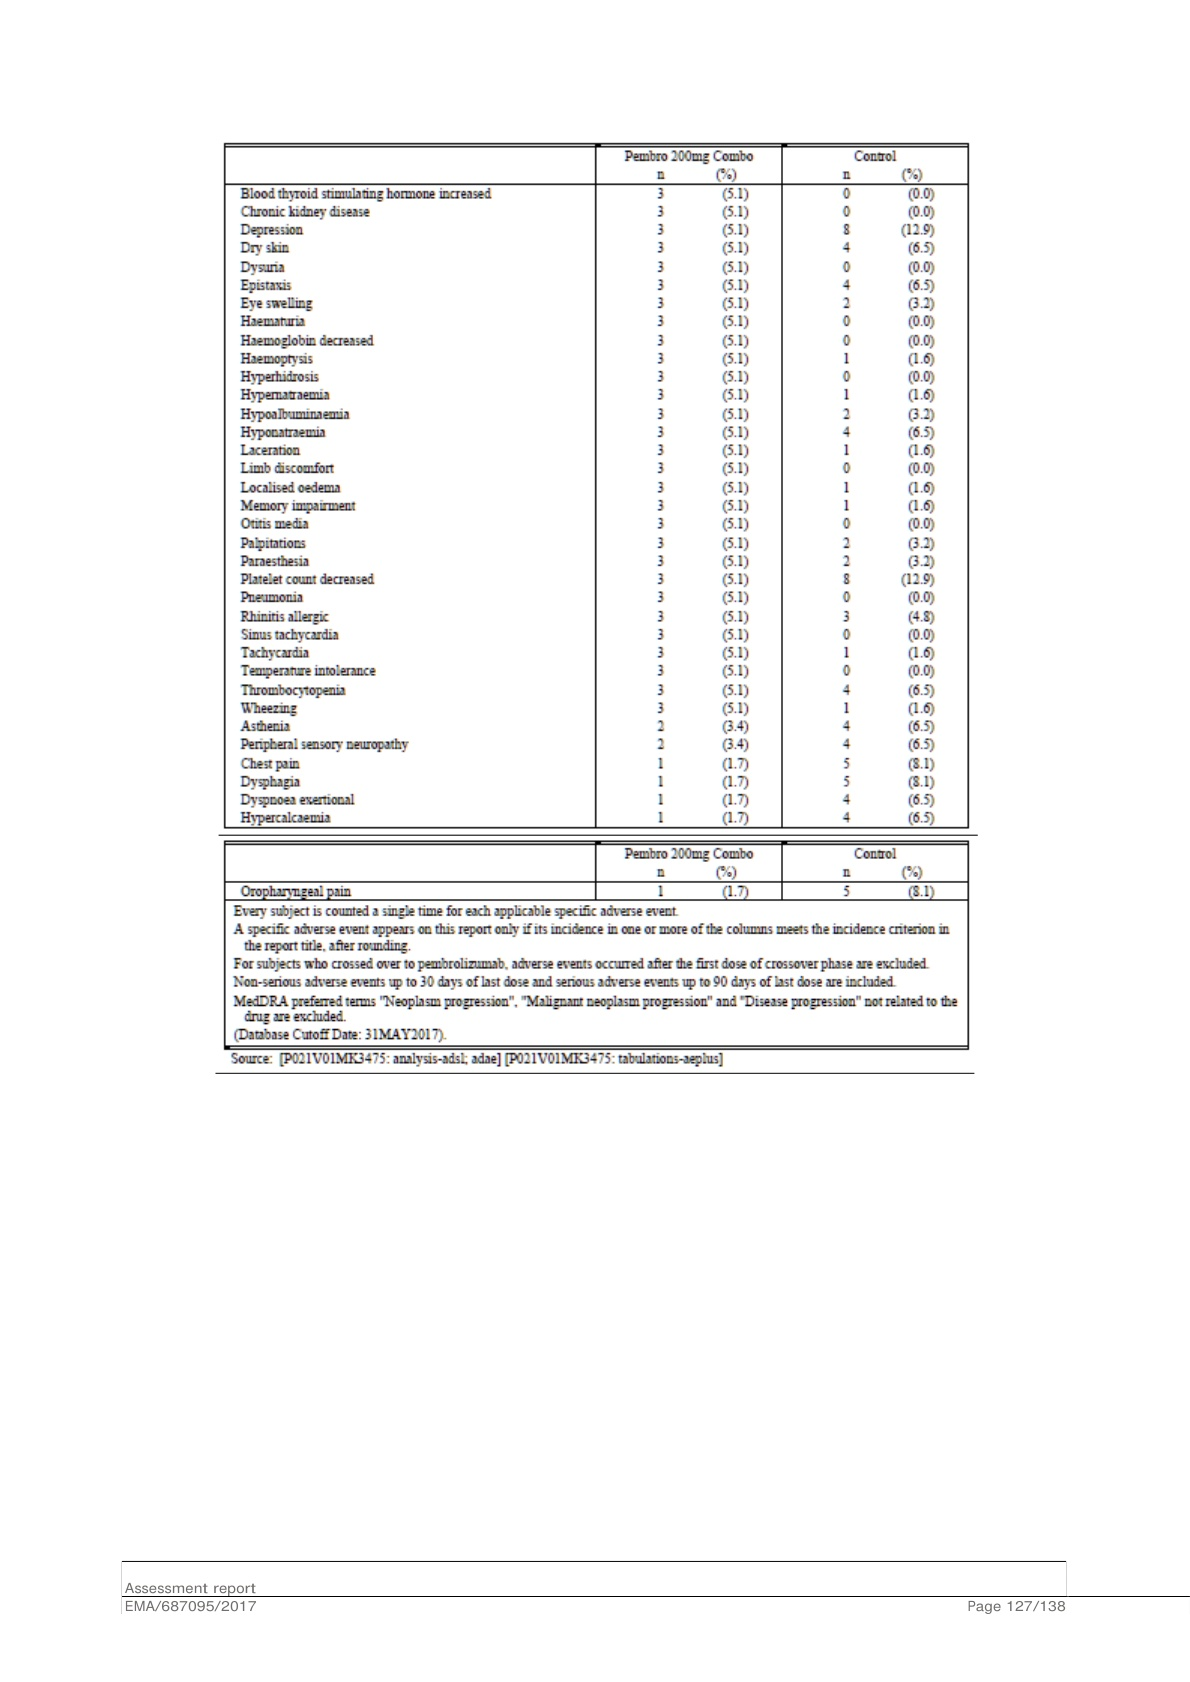partial_lined_merged_cells: (223, 140, 970, 829), (223, 838, 970, 1051)
